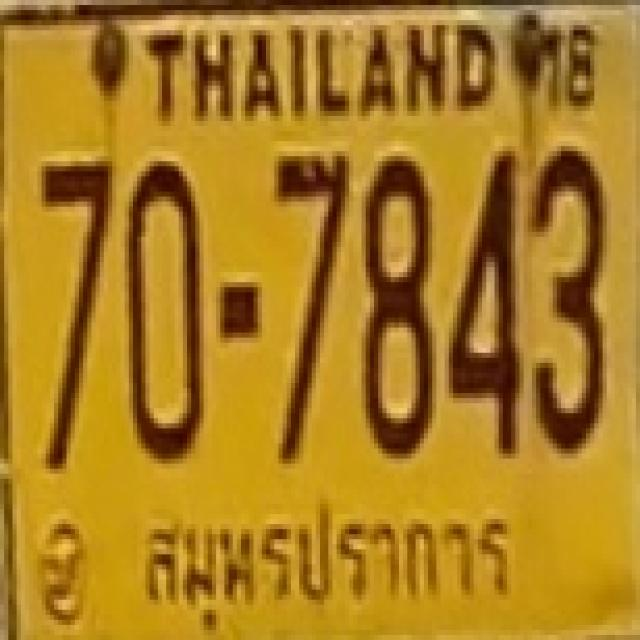0: (125, 159, 205, 465)
3: (528, 146, 610, 457)
4: (445, 149, 524, 457)
7: (38, 156, 116, 473), (274, 151, 351, 465)
8: (359, 154, 436, 461)
SPK: (125, 499, 538, 622)
